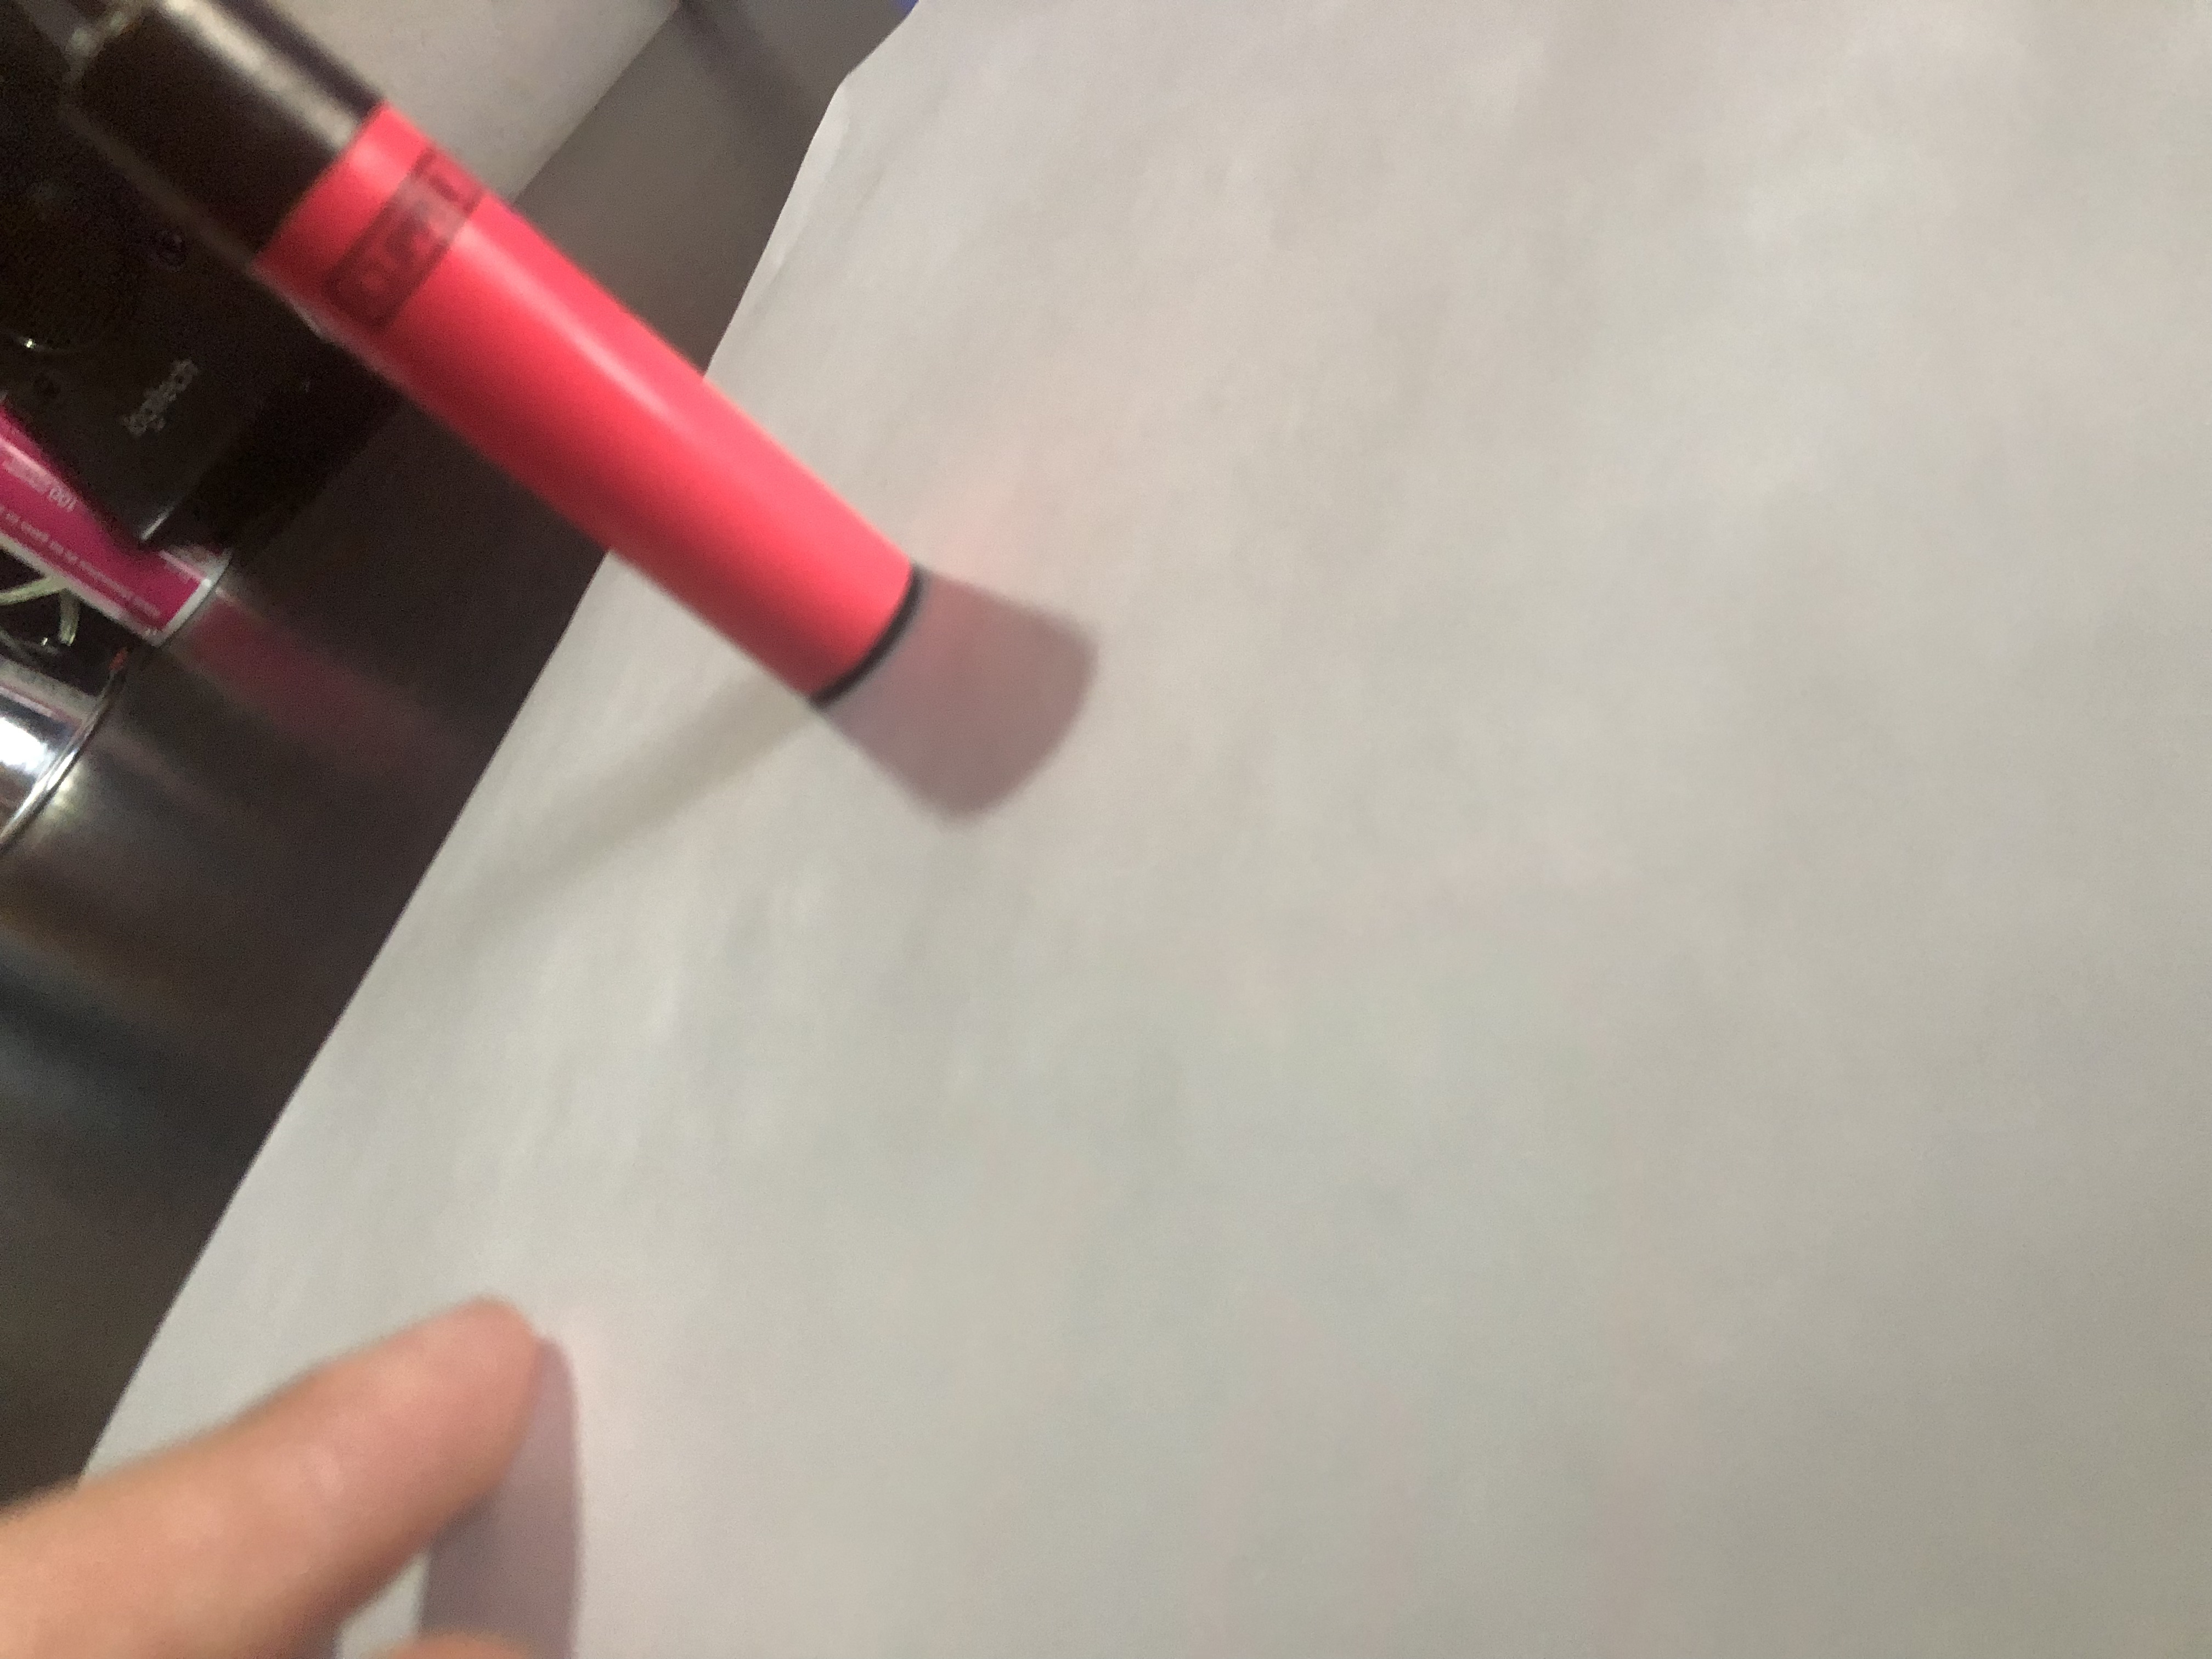Mechero: (0, 0, 942, 713)
